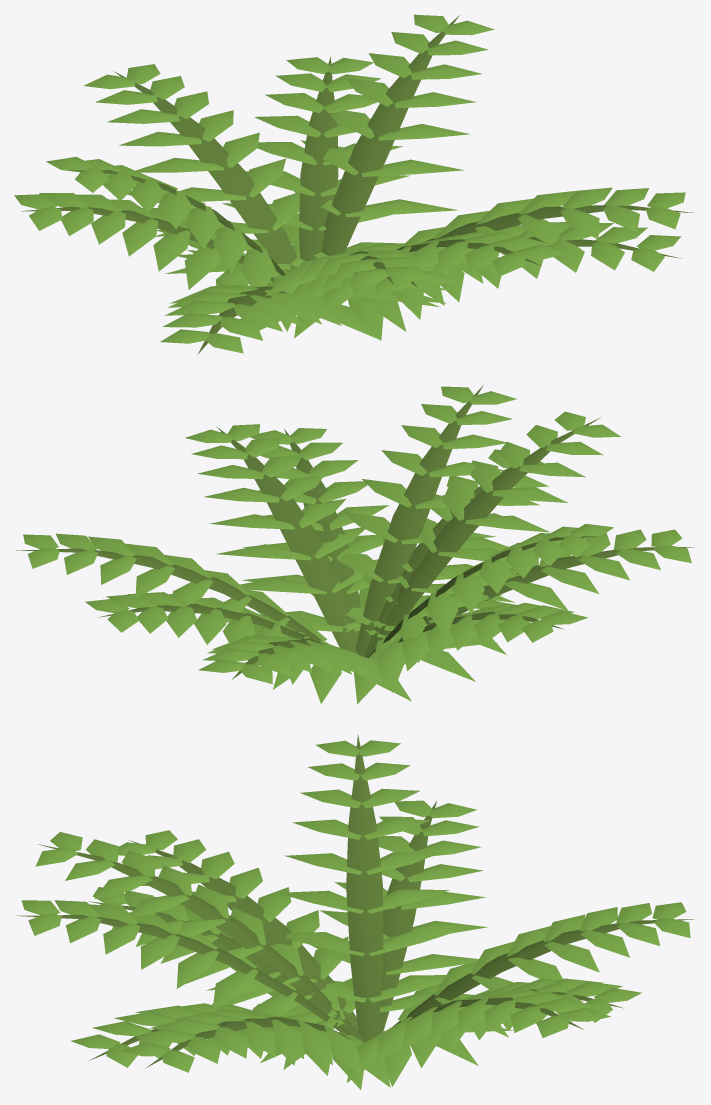
The model's file is fern.glb.
The picture shows the model from 3 angles, top to bottom: view 1: azimuth 30°, elevation 25°; view 2: azimuth 150°, elevation 25°; view 3: azimuth 270°, elevation 25°; orthographic projection. The views are drawn at different scales.
Parts seen in each view (by area): view 1: fern; view 2: fern; view 3: fern.
Boxes of the visible parts, box(x1,y1,x2,y2) form: fern: box(14, 14, 693, 354); fern: box(16, 385, 694, 703); fern: box(16, 735, 694, 1089).
Size of the model in its own units: 2.48 by 0.888 by 2.8.
